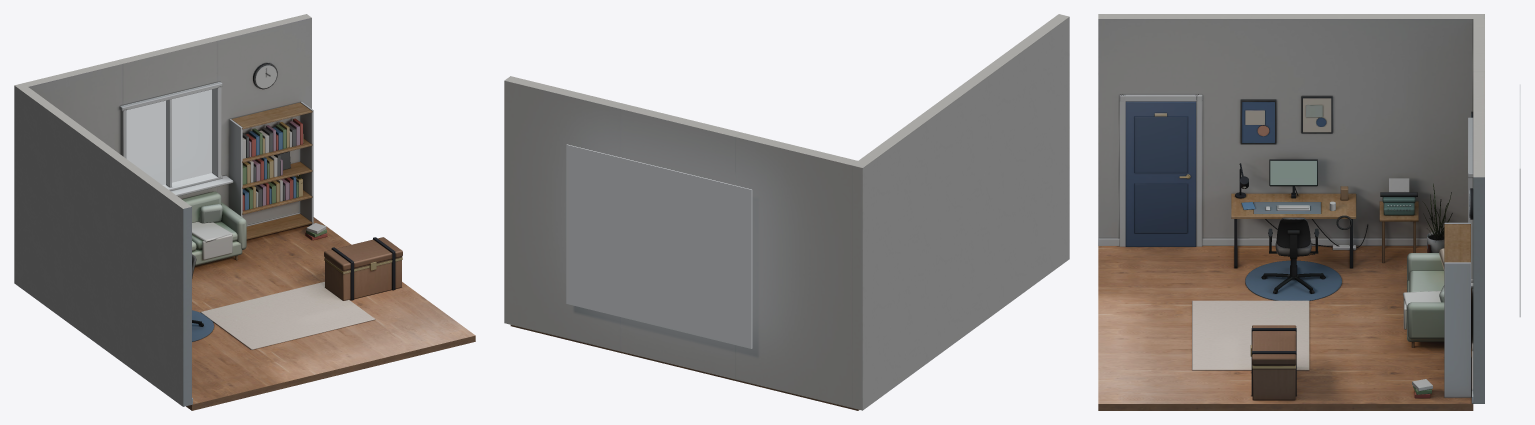
File: room.glb
3 renders of one model, left to right at view 1: azimuth 30°, elevation 25°; view 2: azimuth 150°, elevation 25°; view 3: azimuth 270°, elevation 25°, orthographic. The views are drawn at different scales.
Parts seen in each view (by area): view 1: static, window, bookshelf, chest, sofa, clock; view 2: static, window; view 3: static, door, bookshelf, sofa, chest, monitor, chair, window, typewriter, plant.
Part boxes in pixels (<box>): static: <box>14,14,475,410</box>; window: <box>120,81,233,196</box>; bookshelf: <box>229,101,313,239</box>; chest: <box>324,237,402,300</box>; sofa: <box>182,191,246,265</box>; clock: <box>253,63,277,89</box>; static: <box>504,14,1069,410</box>; window: <box>566,144,752,348</box>; static: <box>1098,14,1484,410</box>; door: <box>1119,94,1202,246</box>; bookshelf: <box>1444,222,1470,397</box>; sofa: <box>1403,248,1444,347</box>; chest: <box>1250,325,1296,400</box>; monitor: <box>1254,159,1352,229</box>; chair: <box>1261,217,1325,293</box>; window: <box>1468,84,1520,317</box>; typewriter: <box>1380,178,1417,215</box>; plant: <box>1422,183,1452,252</box>.
Bounding box in the file's own units: 4.95 × 3.3 × 5.4.
1 material, 1 textured.
